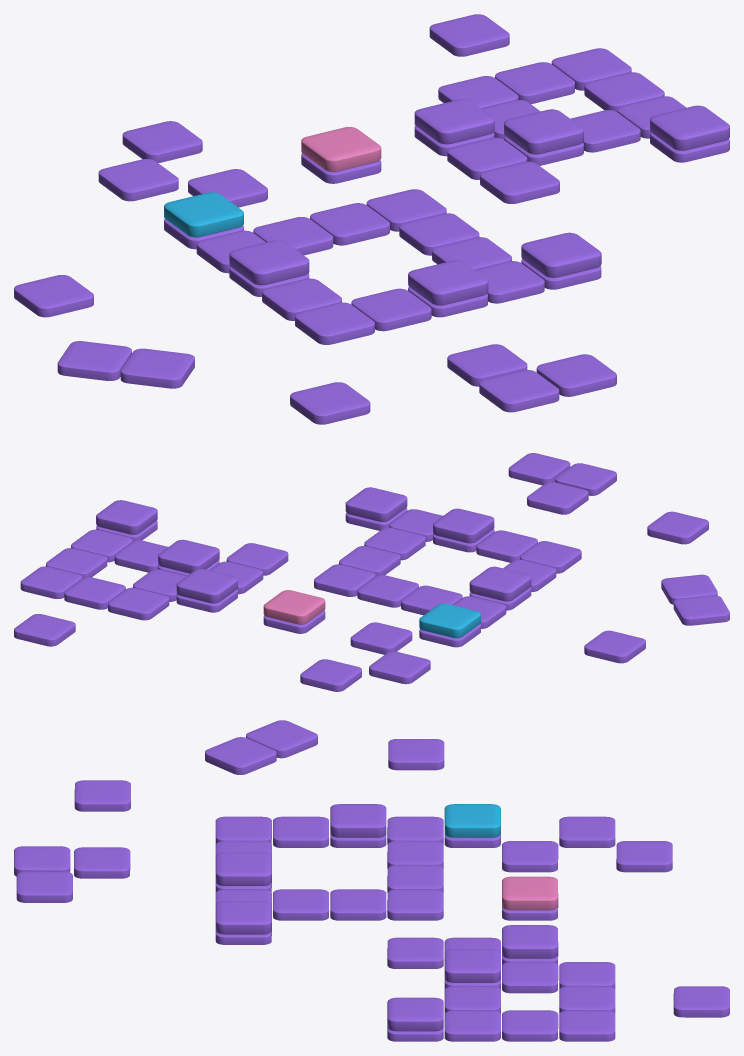
The model's file is Level15.glb.
The picture shows the model from 3 angles, top to bottom: view 1: azimuth 30°, elevation 25°; view 2: azimuth 150°, elevation 25°; view 3: azimuth 270°, elevation 25°; orthographic projection. The views are drawn at different scales.
Visible parts, largest first — view 1: block.005, block.002, block.001, block.003, wall.007, block.004, block.006, block, platform.002, platform.036, platform.010, platform.003 (+31 smaller); view 2: block.002, wall.007, block.003, block, block.001, block.006, block.005, block.004, platform.004, platform.002, platform.010, platform.036 (+32 smaller); view 3: block.006, wall.007, block.002, block, block.003, block.001, block.004, platform.007, block.005, platform.028, platform.032, platform.016 (+31 smaller).
Part boxes in pixels (box(x1,y1,x2,y2)): block.005: box(414, 99, 494, 144); block.002: box(229, 240, 309, 285); block.001: box(408, 260, 488, 305); block.003: box(521, 232, 601, 277); wall.007: box(301, 127, 381, 171); block.004: box(504, 109, 583, 154); block.006: box(650, 105, 729, 150); block: box(164, 192, 243, 237); platform.002: box(290, 382, 370, 424); platform.036: box(429, 14, 509, 56); platform.010: box(98, 159, 178, 201); platform.003: box(479, 370, 559, 412); block.002: box(469, 566, 531, 601); wall.007: box(263, 590, 325, 624); block.003: box(345, 487, 407, 521); block: box(419, 603, 480, 638); block.001: box(433, 508, 494, 543); block.006: box(96, 500, 157, 534); block.005: box(176, 569, 237, 603); block.004: box(158, 539, 219, 573); platform.004: box(584, 630, 645, 663); platform.002: box(647, 511, 708, 544); platform.010: box(369, 651, 430, 684); platform.036: box(14, 614, 75, 646); block.006: box(387, 997, 443, 1031); wall.007: box(502, 876, 557, 910); block.002: box(330, 804, 386, 837); block: box(444, 804, 500, 837); block.003: box(215, 901, 271, 934); block.001: box(215, 852, 271, 885); block.004: box(444, 949, 500, 982); platform.007: box(205, 737, 276, 774); block.005: box(502, 925, 557, 958); platform.028: box(387, 889, 443, 920); platform.032: box(559, 1010, 615, 1041); platform.016: box(330, 889, 386, 920).
Size of what is drawn, in the model's own units: 32.04 by 1.04 by 30.88.
